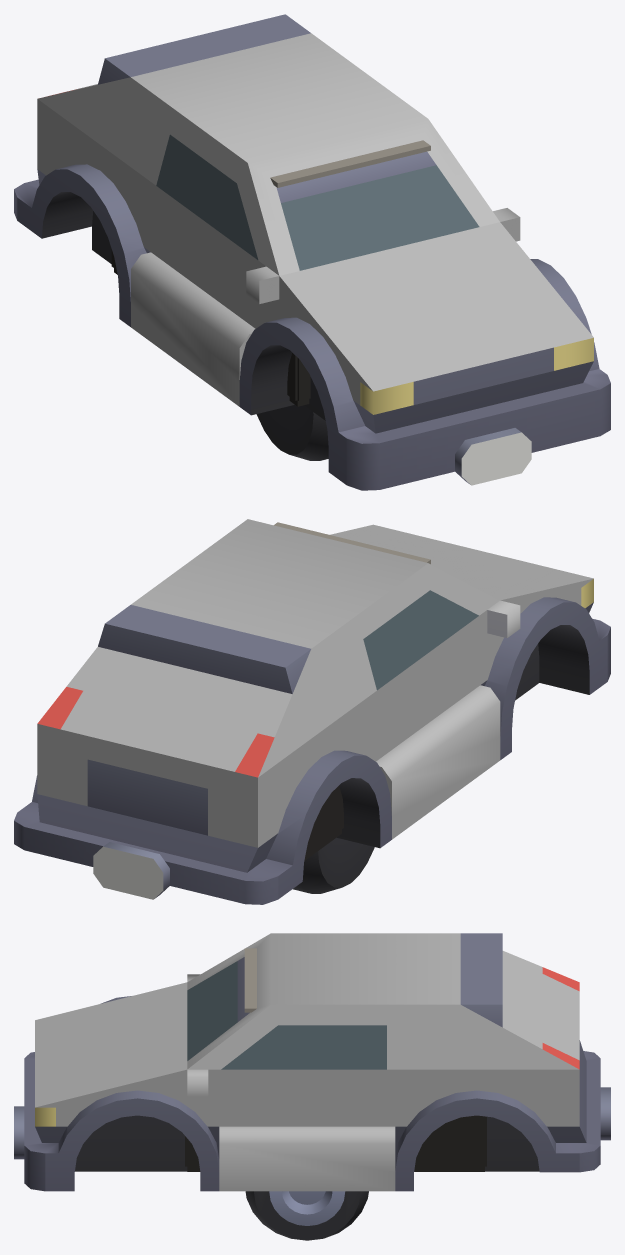
Rendered from eko-hatch-v1.glb.
3 views of the same model, one above another, from view 1: azimuth 30°, elevation 25°; view 2: azimuth 150°, elevation 25°; view 3: azimuth 270°, elevation 25° (orthographic). The views are drawn at different scales.
Parts seen in each view (by area): view 1: paint, trim, glass, interior, wheel, plate, headlamp; view 2: paint, trim, glass, wheel, plate, interior, taillamp; view 3: paint, trim, glass, wheel, interior, taillamp, headlamp.
Boxes of the visible parts, x1,y1,x2,y2 form: paint: [37, 33, 593, 406]; trim: [14, 14, 610, 490]; glass: [156, 134, 479, 270]; interior: [111, 140, 430, 406]; wheel: [256, 405, 328, 460]; plate: [461, 432, 531, 485]; headlamp: [360, 338, 593, 414]; paint: [37, 519, 593, 847]; trim: [14, 597, 610, 904]; glass: [363, 590, 478, 690]; wheel: [293, 837, 374, 893]; plate: [93, 846, 163, 899]; interior: [274, 522, 430, 860]; taillamp: [37, 686, 274, 777]; paint: [35, 933, 579, 1191]; trim: [14, 933, 610, 1191]; glass: [187, 961, 386, 1069]; wheel: [245, 1191, 368, 1240]; interior: [185, 948, 486, 1171]; taillamp: [542, 967, 579, 1069]; headlamp: [35, 1107, 55, 1126].
Bounding box in the file's own units: 1.69 × 2.03 × 4.13.
Materials: 8 (2 with a texture image).
